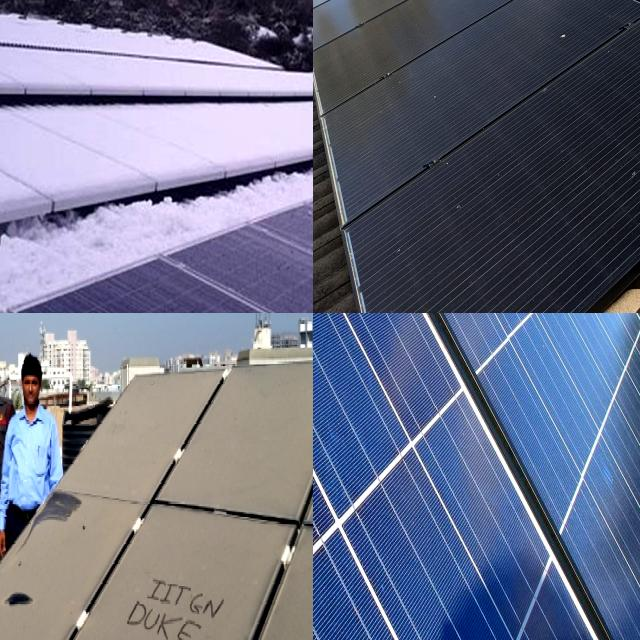crack: (313, 313, 442, 640), (313, 313, 434, 556)
dust: (455, 61, 640, 203), (117, 380, 233, 503), (107, 547, 256, 640), (238, 377, 313, 512), (0, 566, 97, 640), (38, 501, 116, 556)
panel: (57, 94, 192, 199), (0, 230, 169, 313), (213, 82, 313, 160), (86, 32, 202, 95), (205, 153, 313, 211), (0, 94, 49, 220), (0, 16, 73, 86)
